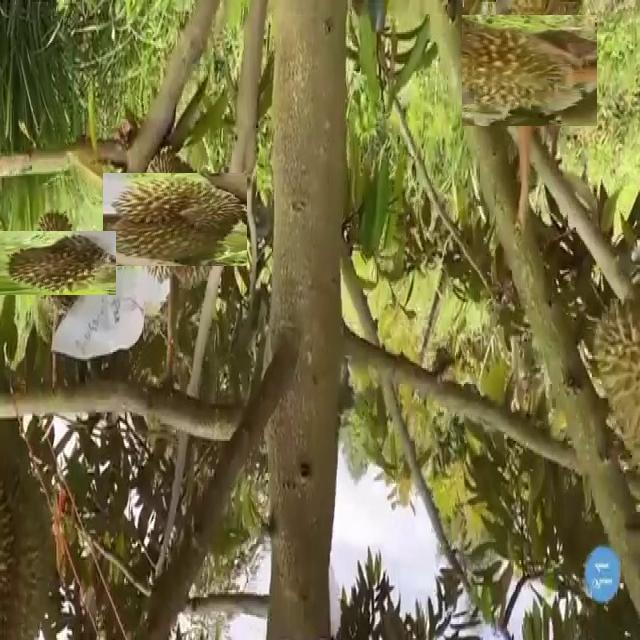durian: (468, 8, 591, 132), (116, 160, 234, 280), (585, 282, 639, 476), (12, 218, 103, 308)
